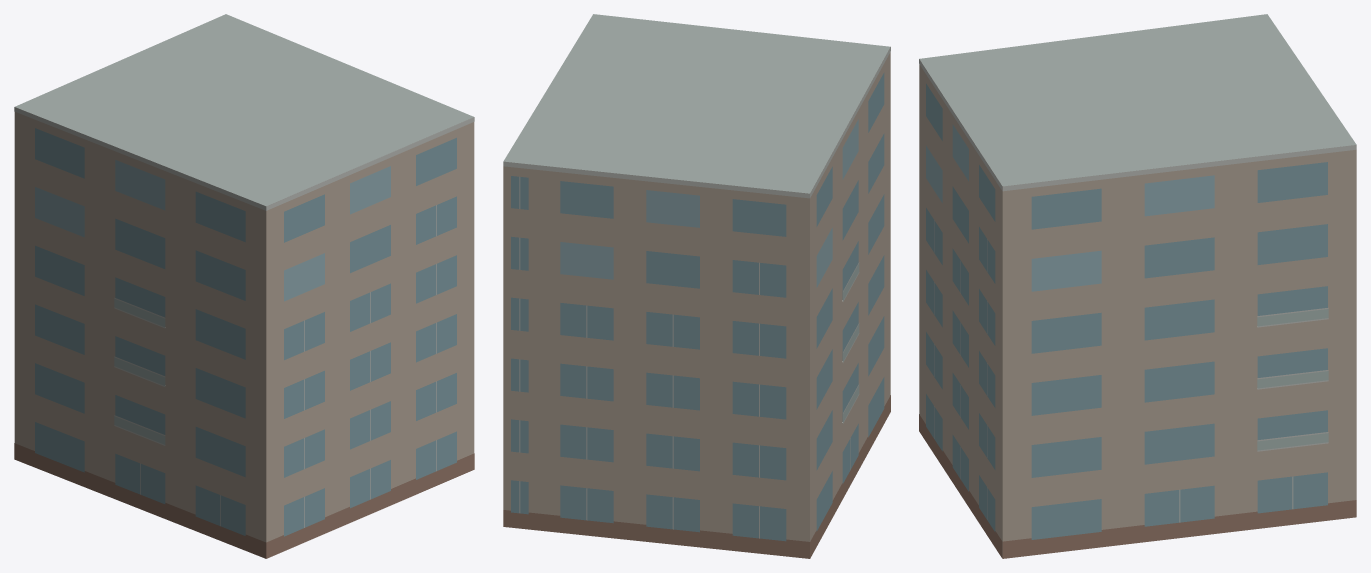
The model's file is survey-upis-32748336.glb.
3 renders of one model, left to right at view 1: azimuth 30°, elevation 25°; view 2: azimuth 150°, elevation 25°; view 3: azimuth 270°, elevation 25°, orthographic. The views are drawn at different scales.
Parts seen in each view (by area): view 1: survey-upis-32748336.tmp; view 2: survey-upis-32748336.tmp; view 3: survey-upis-32748336.tmp.
Boxes of the visible parts, x1=… form: survey-upis-32748336.tmp: x1=14, y1=14, x2=474, y2=558; survey-upis-32748336.tmp: x1=503, y1=14, x2=890, y2=558; survey-upis-32748336.tmp: x1=919, y1=14, x2=1356, y2=558.
Bounding box in the file's own units: 18.58 × 18.7 × 19.92.
